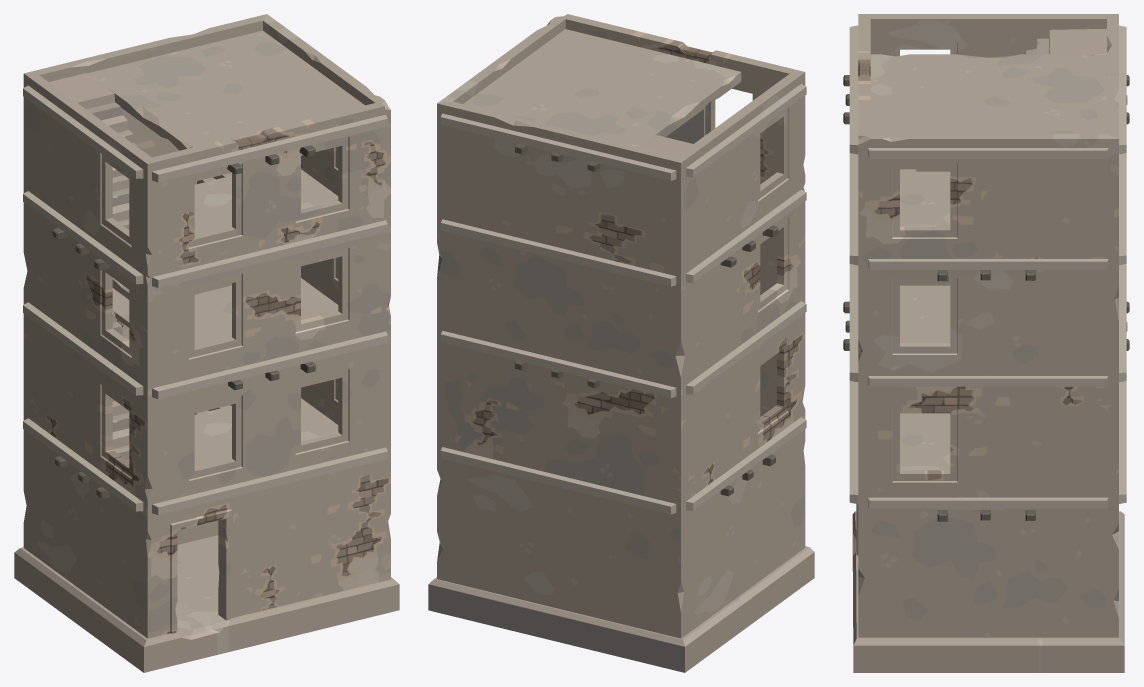
The model's file is SM_Bld_Village_House_04.glb.
The picture shows the model from 3 angles, left to right: view 1: azimuth 30°, elevation 25°; view 2: azimuth 150°, elevation 25°; view 3: azimuth 270°, elevation 25°; orthographic projection. The views are drawn at different scales.
Parts seen in each view (by area): view 1: SM_Bld_Village_House_04; view 2: SM_Bld_Village_House_04; view 3: SM_Bld_Village_House_04.
Part boxes in pixels (x1=…): SM_Bld_Village_House_04: x1=14, y1=14, x2=399, y2=672; SM_Bld_Village_House_04: x1=428, y1=14, x2=814, y2=672; SM_Bld_Village_House_04: x1=843, y1=14, x2=1129, y2=672.
Bounding box in the file's own units: 6.63 × 12.11 × 5.92.
1 material, 1 textured.
